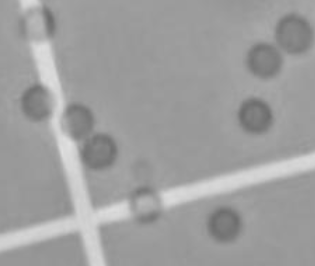cell: (271, 10, 315, 59), (14, 79, 59, 124), (77, 129, 122, 173), (232, 94, 277, 138), (241, 39, 285, 84), (124, 179, 166, 226), (14, 3, 58, 47), (203, 202, 246, 246), (53, 99, 95, 144)
